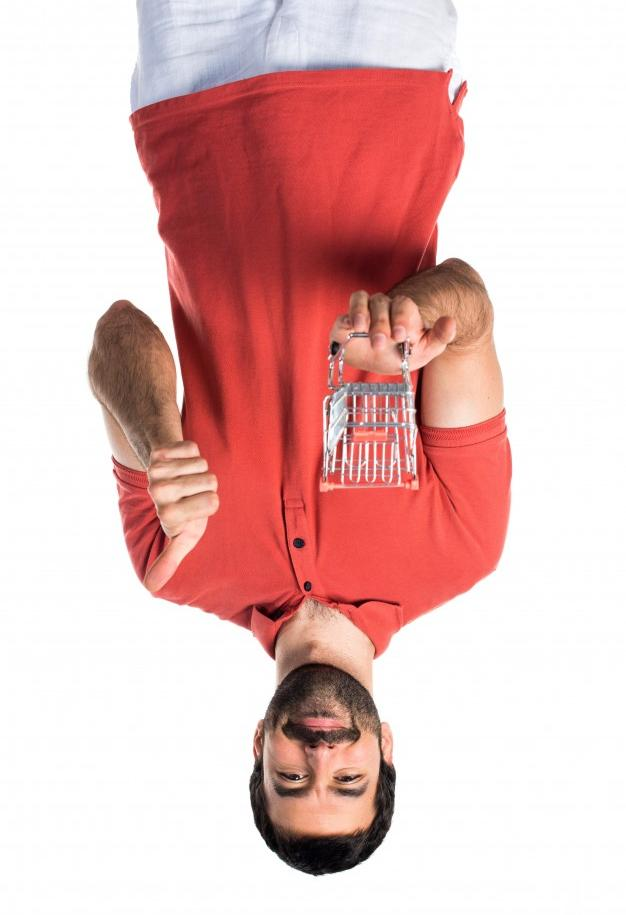thumbsdown: (144, 440, 220, 591)
